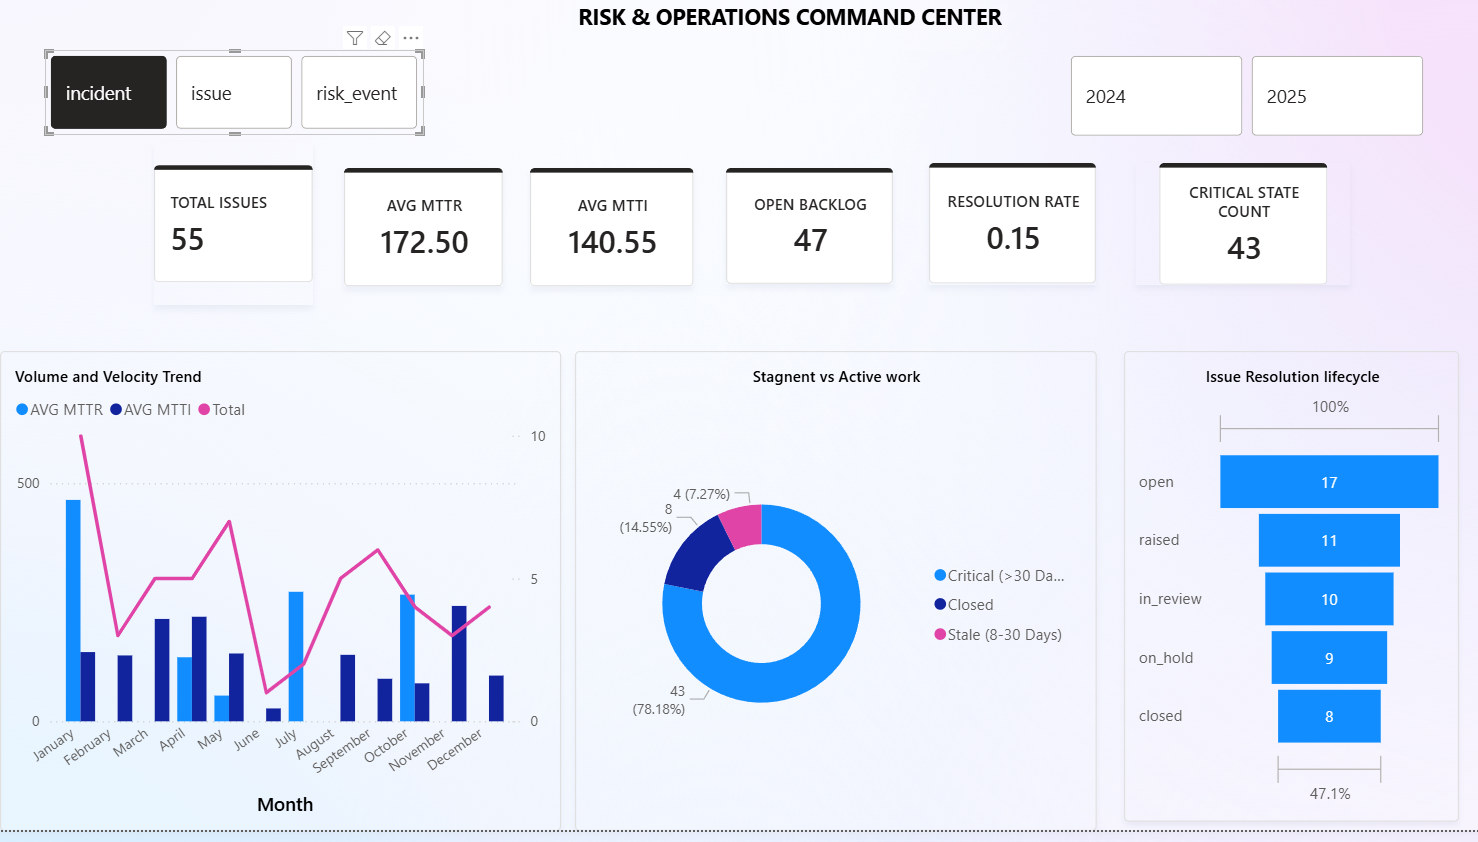

The dashboard page shown, as its layout file describes it:
{"tool":"powerbi","page":{"name":"OVERVIEW","canvas":[1280,720],"ordinal":0},"visuals":[{"type":"textbox","box":[493.4,0,376.1,46.6],"z":0},{"type":"cardVisual","title":"t","fields":{"Data":["Calendar.TOTAL ISSUES"]},"box":[132.5,126.3,137,141.5],"z":1000},{"type":"cardVisual","fields":{"Data":["Calendar.OPEN BACKLOG"]},"box":[626,148.7,144.2,100.3],"z":2000},{"type":"cardVisual","fields":{"Data":["Calendar.RESOLUTION RATE"]},"box":[801.5,144.2,144.2,104.8],"z":3000},{"type":"cardVisual","fields":{"Data":["Calendar.AVG MTTI"]},"box":[456.7,148.7,141.5,102.1],"z":4000},{"type":"cardVisual","fields":{"Data":["Calendar.CRITICAL STATE COUNT"]},"box":[979.7,144.2,185.4,105],"z":6000},{"type":"cardVisual","fields":{"Data":["Calendar.AVG MTTR"]},"box":[296.4,148.7,137,102.1],"z":7000},{"type":"lineClusteredColumnComboChart","title":"Volume and Velocity Trend","fields":{"Category":["fct_Issues.CreatedDate.Variation.Date Hierarchy.Month","fct_Issues.CreatedDate.Variation.Date Hierarchy.Day"],"Y2":["CountNonNull(fct_Issues.NaturalKey)"],"Y":["Calendar.AVG MTTR","Calendar.AVG MTTI"]},"box":[0,306.3,483.6,413.7],"z":8000},{"type":"funnel","title":"Issue Resolution lifecycle","fields":{"Category":["fct_Issues.CurrentStatus"],"Y":["Calendar.TOTAL ISSUES"]},"box":[969.9,306.3,289.3,405.7],"z":9000},{"type":"donutChart","title":"Stagnent vs Active work","fields":{"Category":["fct_Issues.AgeBucket"],"Y":["CountNonNull(fct_Issues.IsOpen)"]},"box":[496.1,306.3,449.6,413.7],"z":10000},{"type":"advancedSlicerVisual","fields":{"Values":["fct_Issues.Type"]},"box":[38.5,46.6,326.9,73.4],"z":12000},{"type":"advancedSlicerVisual","fields":{"Values":["fct_Issues.CreatedDate.Variation.Date Hierarchy.Year"]},"box":[918.8,46.6,315.2,79.7],"z":13000}]}

Visuals, with their boxes in screenshot pixels (x1, y1, x2, y2), scaled from the page's 1280x720 canvas onto the 1478x842 screenshot:
textbox: locate(570, 0, 1004, 54)
"t" cardVisual: locate(153, 148, 311, 313)
cardVisual - Calendar.OPEN BACKLOG: locate(723, 174, 889, 291)
cardVisual - Calendar.RESOLUTION RATE: locate(925, 169, 1092, 291)
cardVisual - Calendar.AVG MTTI: locate(527, 174, 691, 293)
cardVisual - Calendar.CRITICAL STATE COUNT: locate(1131, 169, 1345, 291)
cardVisual - Calendar.AVG MTTR: locate(342, 174, 500, 293)
"Volume and Velocity Trend" lineClusteredColumnComboChart: locate(0, 358, 558, 841)
"Issue Resolution lifecycle" funnel: locate(1120, 358, 1454, 833)
"Stagnent vs Active work" donutChart: locate(573, 358, 1092, 841)
advancedSlicerVisual - fct_Issues.Type: locate(44, 54, 422, 140)
advancedSlicerVisual - fct_Issues.CreatedDate.Variation.Date Hierarchy.Year: locate(1061, 54, 1425, 148)
